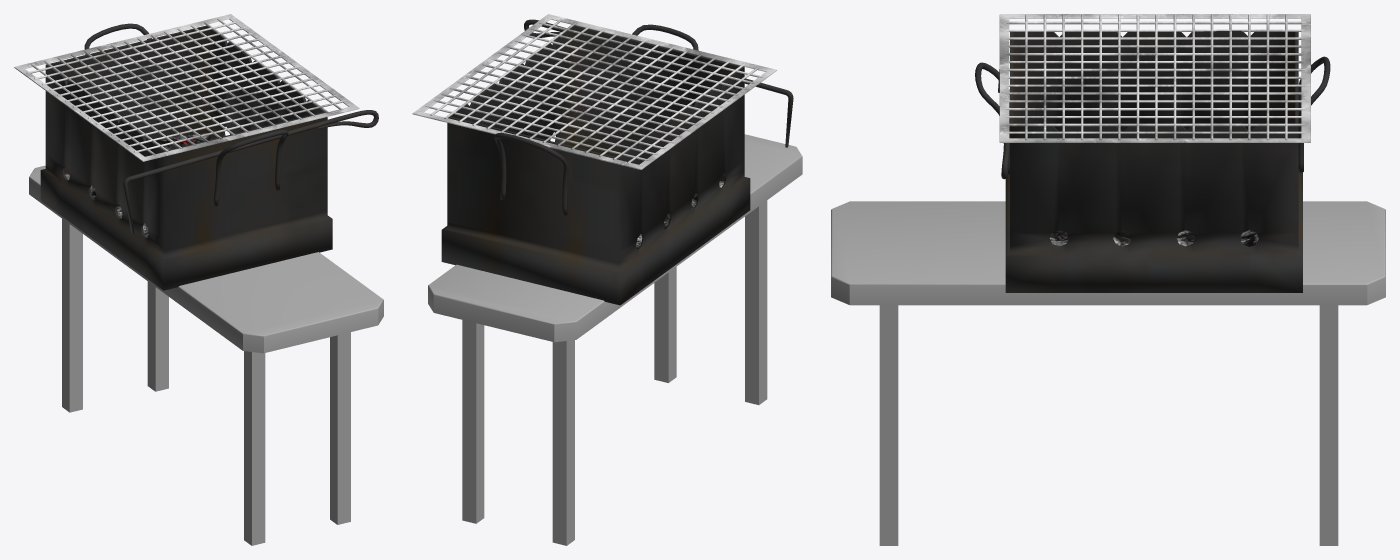
File: scene_barbecue.glb
3 views of the same model, side by side, from view 1: azimuth 30°, elevation 25°; view 2: azimuth 150°, elevation 25°; view 3: azimuth 270°, elevation 25° (orthographic). The views are drawn at different scales.
Parts seen in each view (by area): view 1: scene_barbecue_part1, scene_barbecue_part0, scene_barbecue_part3, scene_barbecue_part2; view 2: scene_barbecue_part1, scene_barbecue_part0, scene_barbecue_part3; view 3: scene_barbecue_part1, scene_barbecue_part0, scene_barbecue_part3, scene_barbecue_part2.
Boxes of the visible parts, x1,y1,x2,y2 form: scene_barbecue_part1: (40,23,378,290); scene_barbecue_part0: (29,165,383,545); scene_barbecue_part3: (14,14,359,161); scene_barbecue_part2: (65,133,211,237); scene_barbecue_part1: (441,19,793,305); scene_barbecue_part0: (428,134,802,545); scene_barbecue_part3: (412,14,776,169); scene_barbecue_part1: (975,30,1330,292); scene_barbecue_part0: (831,201,1385,545); scene_barbecue_part3: (999,14,1310,142); scene_barbecue_part2: (1050,230,1258,246).
Bounding box in the file's own units: 0.6417 × 0.8949 × 1.
4 materials, 3 textured.
